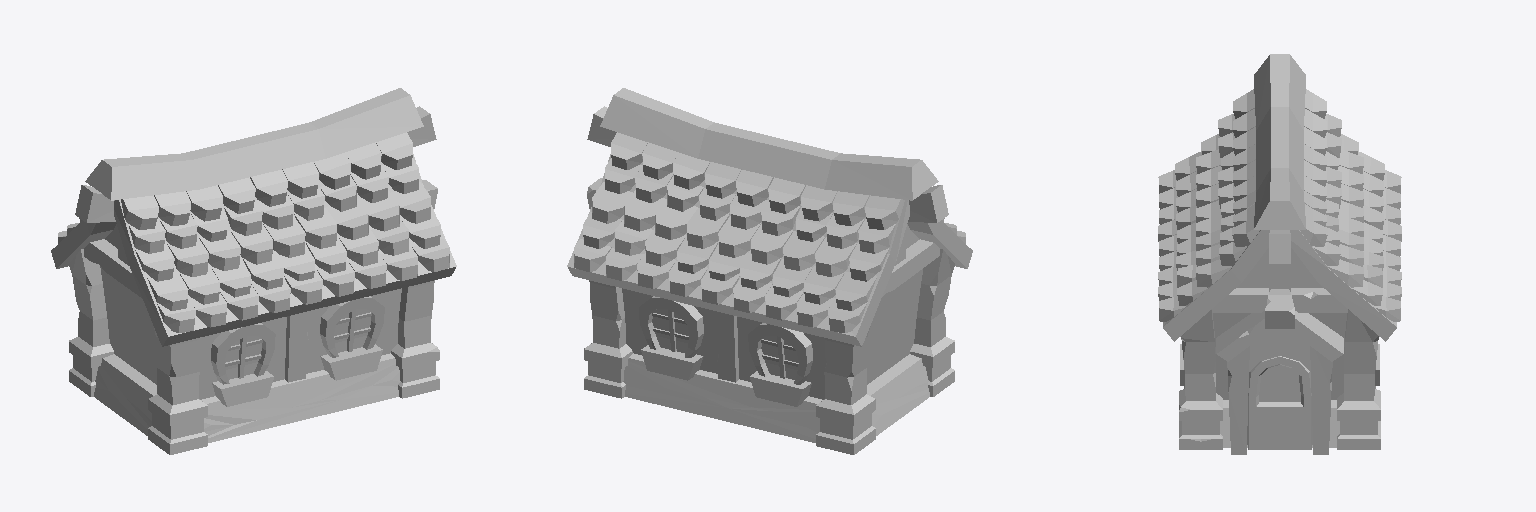
The model's file is house_003.obj.
3 views of the same model, side by side, from view 1: azimuth 30°, elevation 25°; view 2: azimuth 150°, elevation 25°; view 3: azimuth 270°, elevation 25° (orthographic).
Visible parts, largest first — view 1: house_003; view 2: house_003; view 3: house_003.
Boxes of the visible parts, x1,y1,x2,y2 form: house_003: [51, 88, 456, 454]; house_003: [567, 88, 972, 454]; house_003: [1158, 54, 1401, 454].
Size of the model in its own units: 5.4 by 3.8 by 3.26.